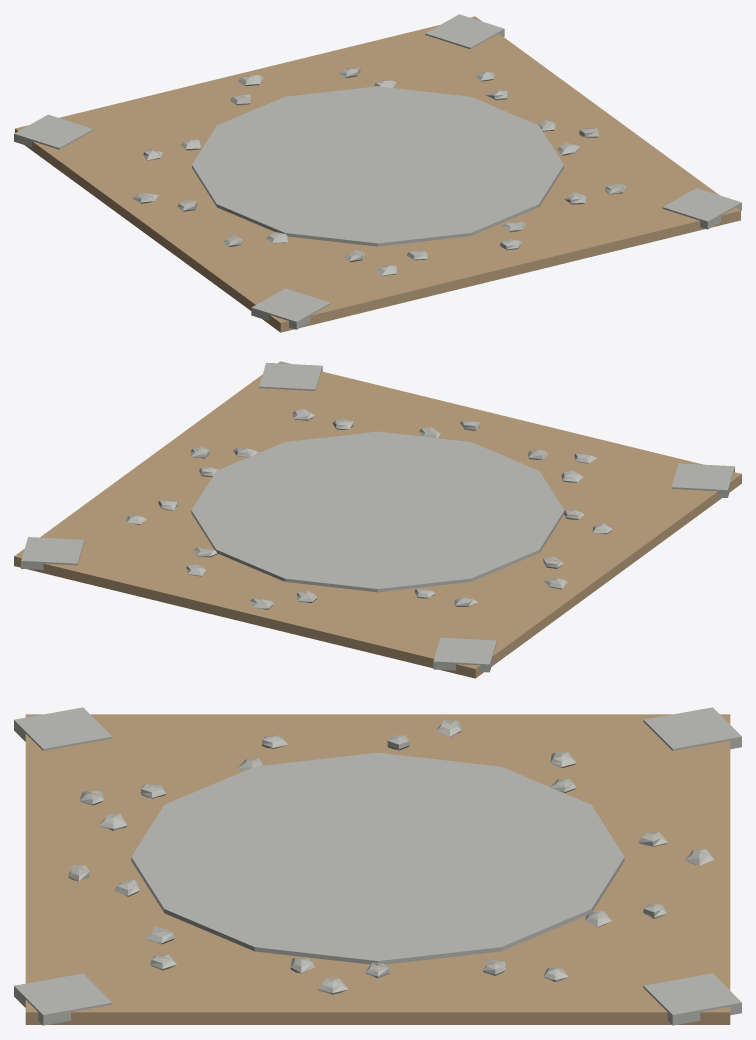
File: DirtRoadJunction.glb
3 renders of one model, top to bottom at view 1: azimuth 30°, elevation 25°; view 2: azimuth 150°, elevation 25°; view 3: azimuth 270°, elevation 25°, orthographic. The views are drawn at different scales.
Visible parts, largest first — view 1: dirt-road-junction; view 2: dirt-road-junction; view 3: dirt-road-junction.
Part boxes in pixels (bbox=[...]): dirt-road-junction: bbox=[14, 14, 741, 332]; dirt-road-junction: bbox=[14, 361, 741, 678]; dirt-road-junction: bbox=[14, 707, 741, 1025].
Bounding box in the file's own units: 3.1 × 0.1003 × 3.1.
